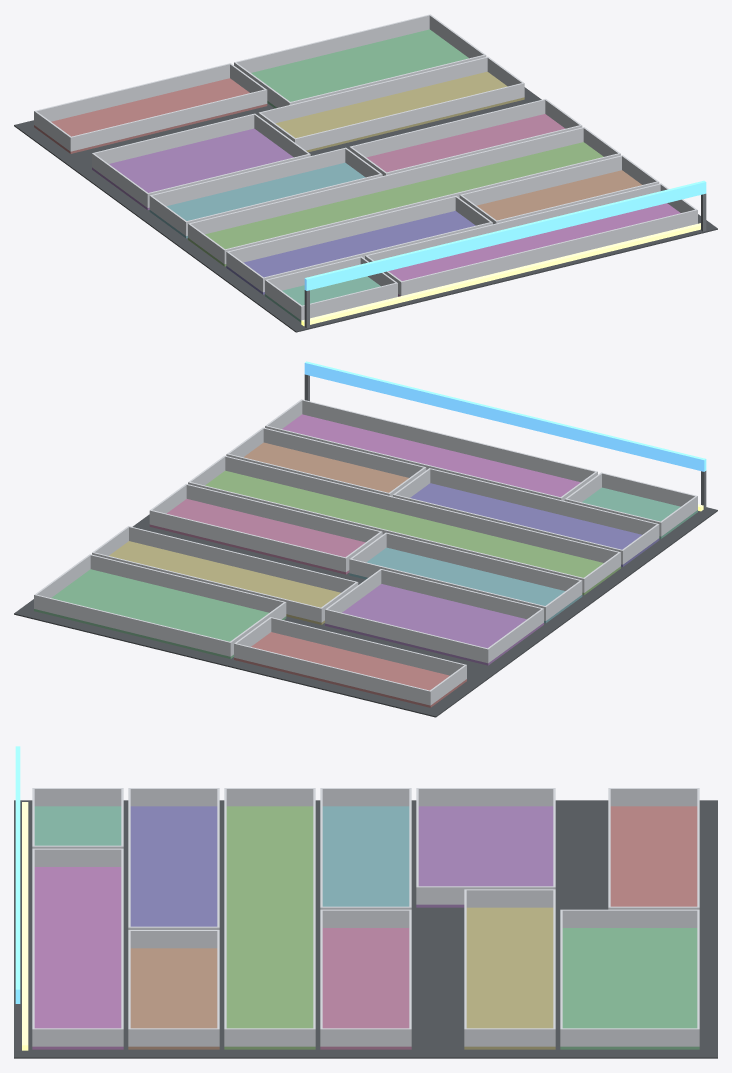
Rendered from hall-millwrights.glb.
3 renders of one model, top to bottom at view 1: azimuth 30°, elevation 25°; view 2: azimuth 150°, elevation 25°; view 3: azimuth 270°, elevation 25°, orthographic. The views are drawn at different scales.
Visible parts, largest first — view 1: Millwrights; view 2: Millwrights; view 3: Millwrights.
Boxes of the visible parts, box(x1,y1,x2,y2) form: Millwrights: box(14, 14, 717, 332); Millwrights: box(14, 361, 717, 717); Millwrights: box(14, 746, 717, 1058).
Size of the model in its own units: 38 by 4.3 by 44.
